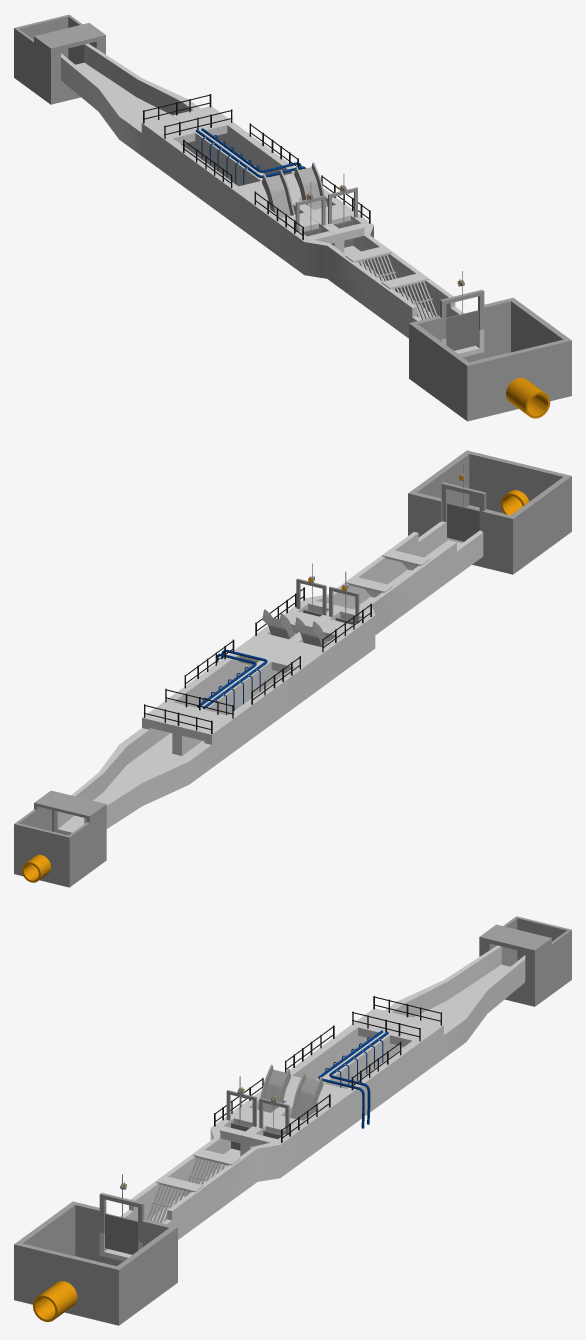
Rendered from MainProcessBuilding2.fbx.
3 renders of one model, top to bottom at view 1: azimuth 30°, elevation 25°; view 2: azimuth 150°, elevation 25°; view 3: azimuth 330°, elevation 25°, orthographic.
Parts seen in each view (by area): view 1: pasted__pCube24, pCube26, pCube48, pasted__pCube7, pasted__pCube22, pCylinder3, pasted__pCube161, pasted__pCube20, pasted__pCube19, pasted__pCube16, pasted__pCube21, pasted__pCube162 (+1 smaller); view 2: pasted__pCube24, pCube26, pCube48, pasted__pCube7, pasted__pCube22, pasted__pCube21, pasted__pCube161, pasted__pCube16, pasted__pCube162, pCylinder8, pasted__pCube19, pasted__pCube20; view 3: pasted__pCube24, pCube26, pCube48, pasted__pCube7, pasted__pCube22, pCylinder3, pasted__pCube161, pasted__pCube19, pasted__pCube20, pasted__pCube16, pasted__pCube21, pasted__pCube162 (+1 smaller).
Part boxes in pixels (<box>): pasted__pCube24: <box>61,43,484,357</box>; pCube26: <box>409,297,571,421</box>; pCube48: <box>14,14,105,104</box>; pasted__pCube7: <box>172,113,344,253</box>; pasted__pCube22: <box>146,106,230,144</box>; pCylinder3: <box>506,377,550,418</box>; pasted__pCube161: <box>446,310,478,350</box>; pasted__pCube20: <box>262,170,294,217</box>; pasted__pCube19: <box>294,162,327,209</box>; pasted__pCube16: <box>278,204,353,232</box>; pasted__pCube21: <box>235,173,302,209</box>; pasted__pCube162: <box>440,289,484,339</box>; pasted__pCube24: <box>54,521,483,835</box>; pCube26: <box>408,450,571,574</box>; pCube48: <box>14,790,106,887</box>; pasted__pCube7: <box>172,605,345,755</box>; pasted__pCube22: <box>146,701,231,740</box>; pasted__pCube21: <box>237,633,324,673</box>; pasted__pCube161: <box>447,503,479,541</box>; pasted__pCube16: <box>285,610,355,641</box>; pasted__pCube162: <box>441,482,486,530</box>; pCylinder8: <box>21,854,50,882</box>; pasted__pCube19: <box>262,609,294,638</box>; pasted__pCube20: <box>295,617,326,646</box>; pasted__pCube24: <box>99,945,525,1261</box>; pCube26: <box>14,1201,177,1325</box>; pCube48: <box>479,916,571,1006</box>; pasted__pCube7: <box>240,1015,413,1156</box>; pasted__pCube22: <box>354,1009,439,1046</box>; pCylinder3: <box>33,1281,77,1321</box>; pasted__pCube161: <box>105,1213,137,1254</box>; pasted__pCube19: <box>290,1072,323,1120</box>; pasted__pCube20: <box>257,1065,290,1112</box>; pasted__pCube16: <box>230,1106,306,1135</box>; pasted__pCube21: <box>283,1075,350,1111</box>; pasted__pCube162: <box>99,1193,144,1242</box>.
Bounding box in the file's own units: 5.69 × 5.58 × 47.8.
